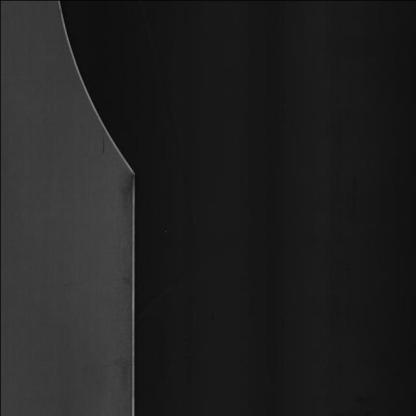crescent_gap: (43, 0, 160, 194)
